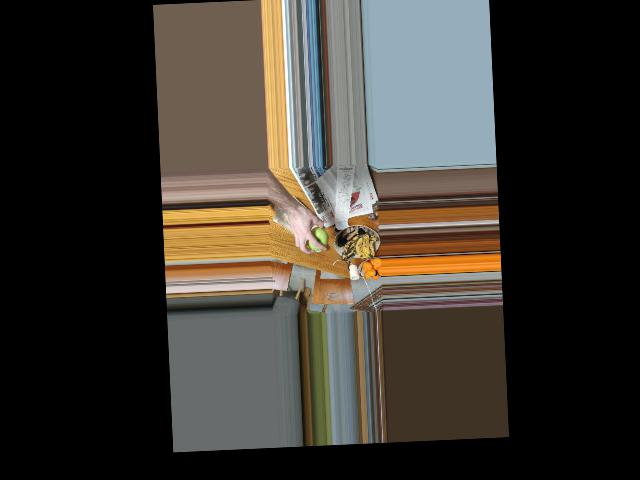apple: (305, 225, 328, 252)
